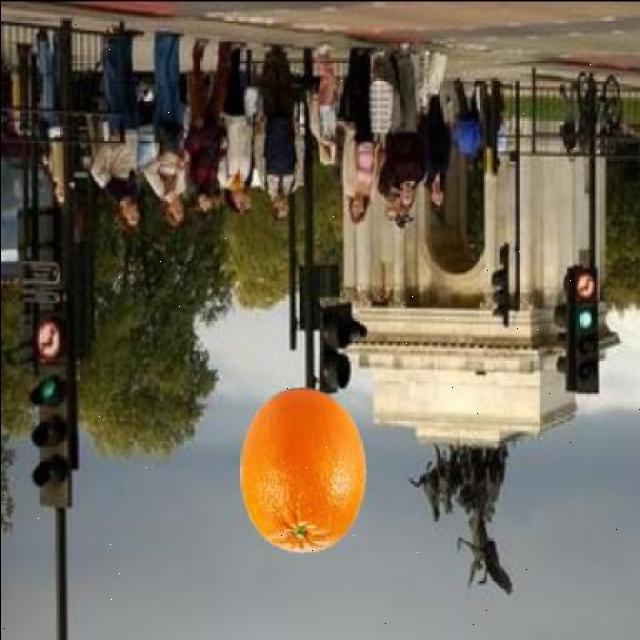Orange: (238, 386, 369, 552)
